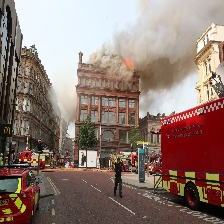fire: (123, 57, 135, 70)
smoke: (84, 1, 223, 94), (47, 85, 81, 120)
